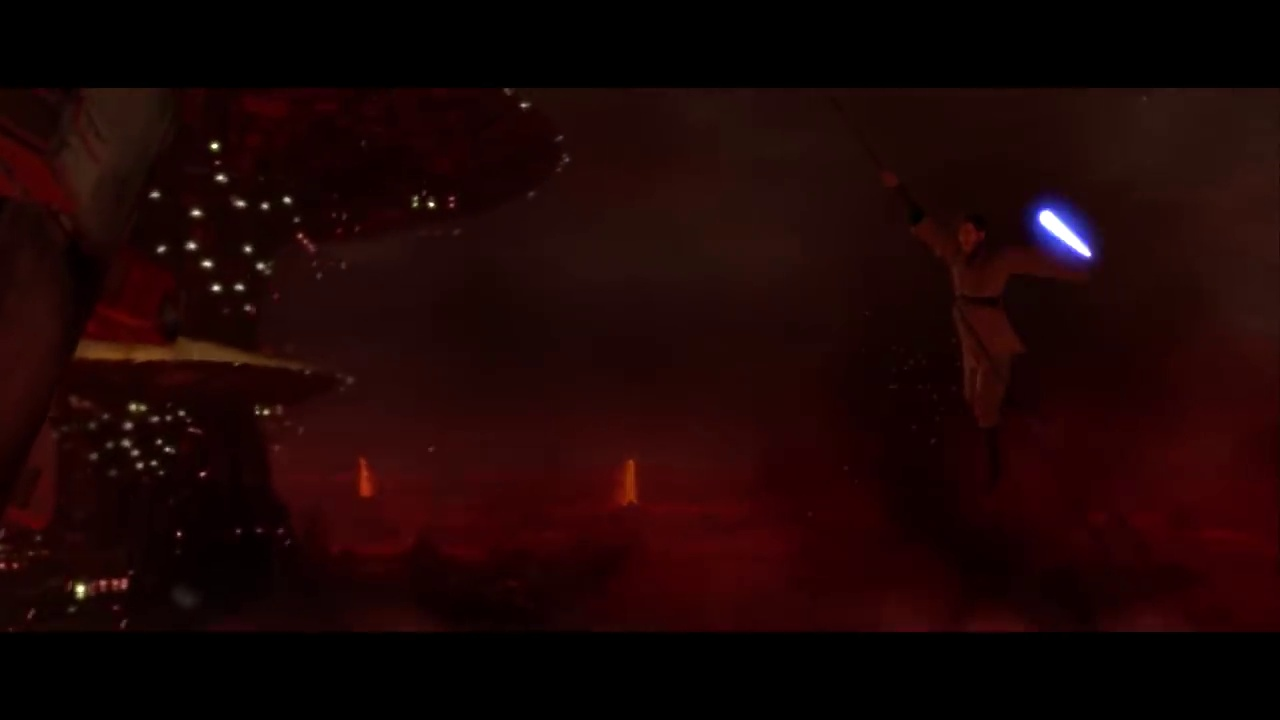lightsaber: (1031, 208, 1107, 270)
